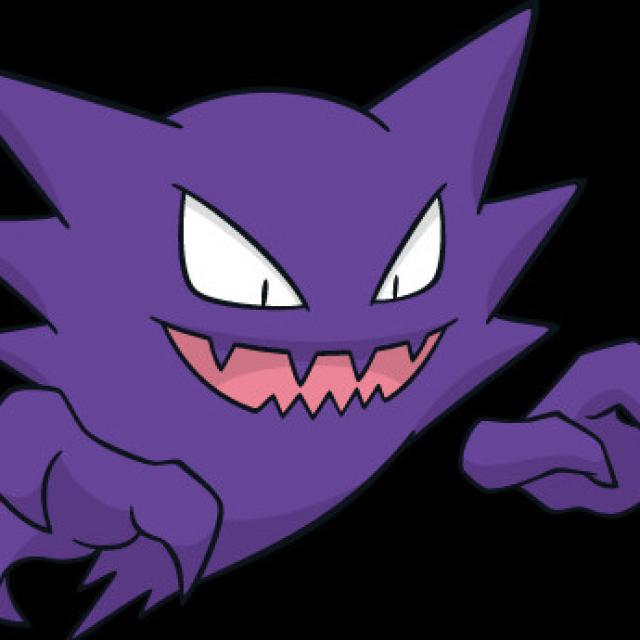Haunter: (0, 4, 567, 506)
